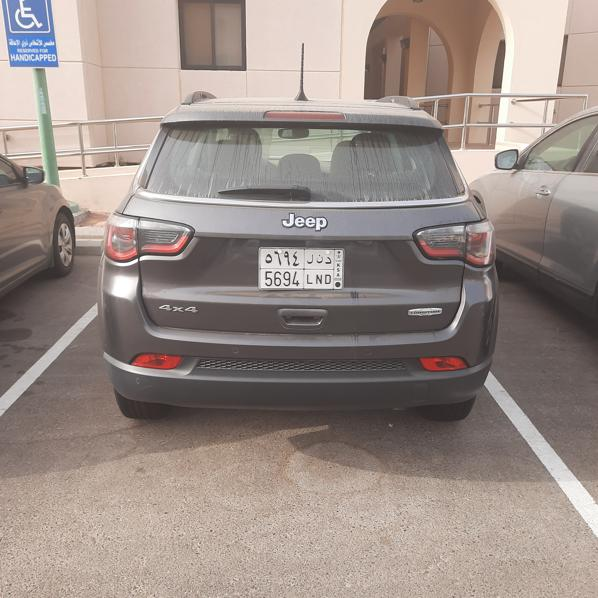numberplate: (258, 247, 343, 290)
